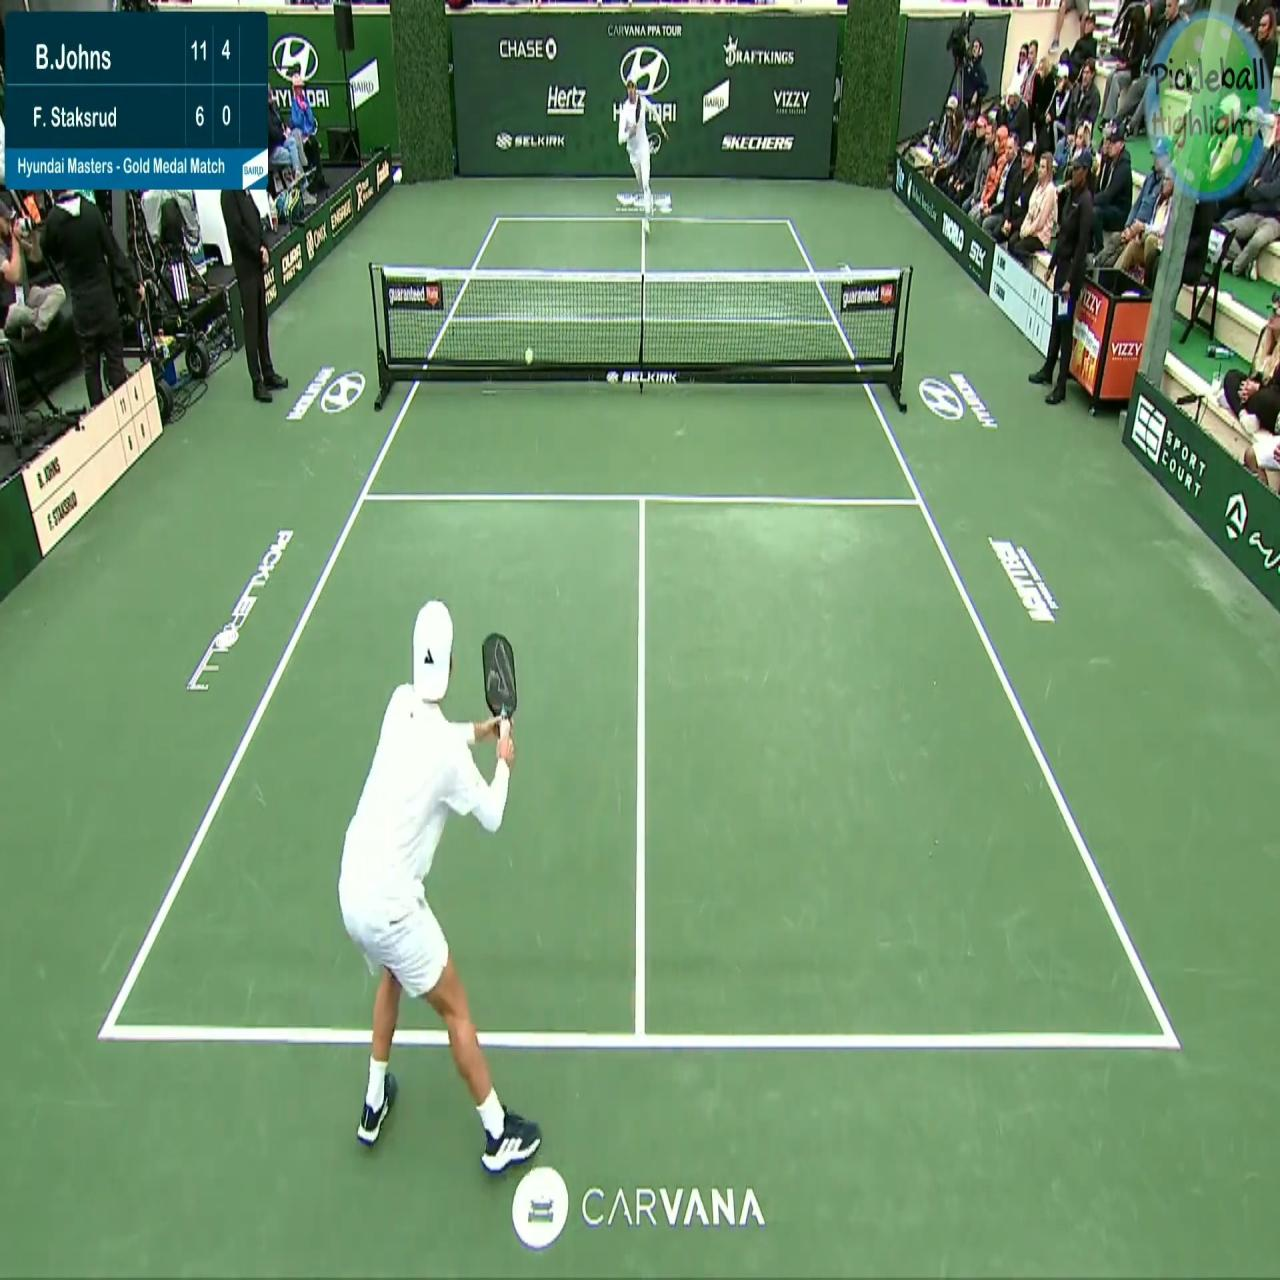pickleball: (525, 347, 535, 366)
